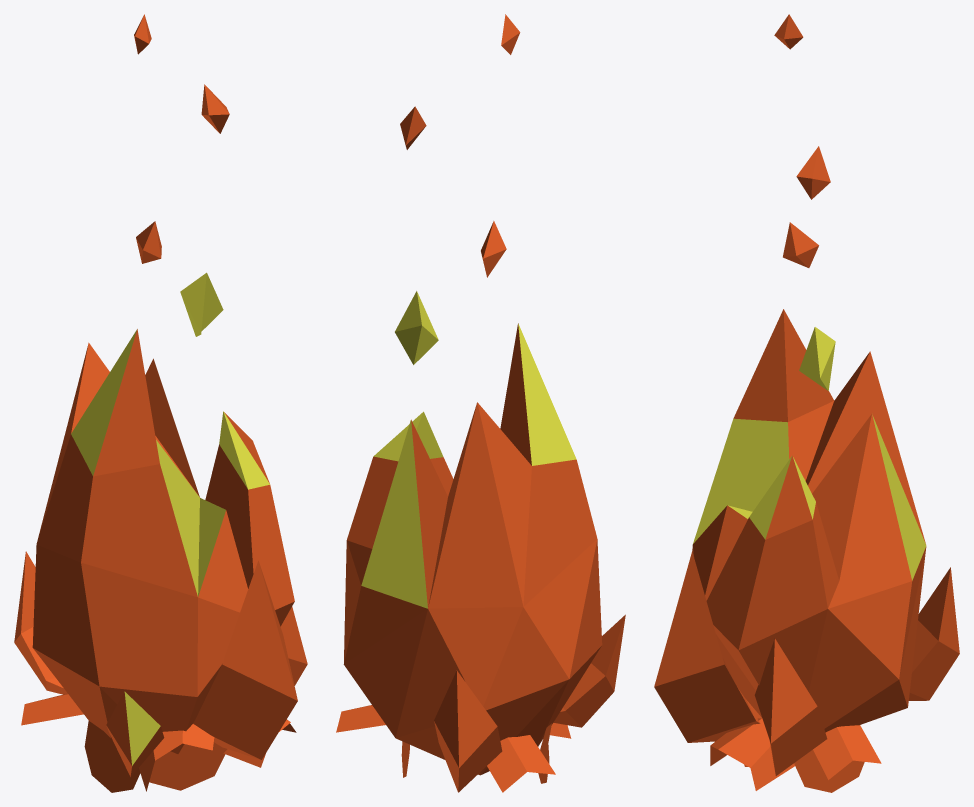
File: Foc.fbx
3 renders of one model, left to right at view 1: azimuth 30°, elevation 25°; view 2: azimuth 150°, elevation 25°; view 3: azimuth 270°, elevation 25°, orthographic. The views are drawn at different scales.
Visible parts, largest first — view 1: Foc; view 2: Foc; view 3: Foc.
Part boxes in pixels (<box>): Foc: <box>14,14,307,792</box>; Foc: <box>336,14,625,792</box>; Foc: <box>654,14,959,792</box>.
Bounding box in the file's own units: 312 × 949 × 354.
